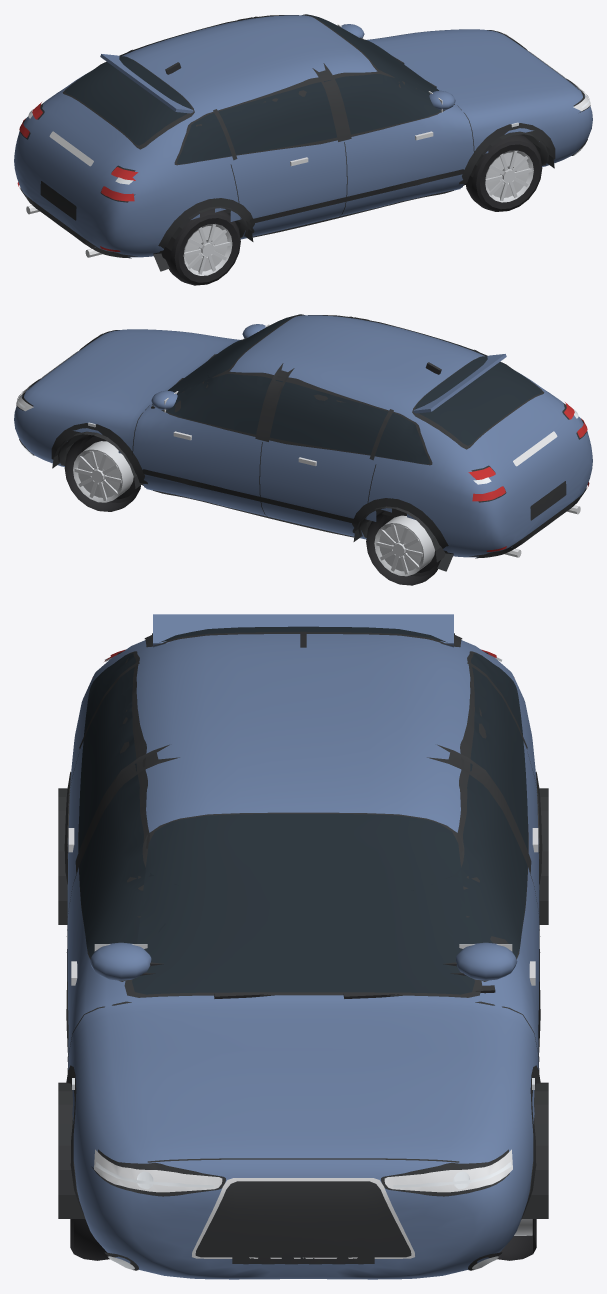
The model's file is aurore.glb.
3 renders of one model, top to bottom at view 1: azimuth 30°, elevation 25°; view 2: azimuth 150°, elevation 25°; view 3: azimuth 270°, elevation 25°, orthographic. The views are drawn at different scales.
Visible parts, largest first — view 1: Body, Glass-1, RearGlass, WheelFR, WheelRR, Windshield, WinFrame-1, ArchTrim-1.001, ArchTrim-1, Rub-1, Bpillar-1, Spoiler (+9 smaller); view 2: Body, Glass1, RearGlass, WheelFL, WheelRL, Windshield, WinFrame1, ArchTrim1.001, ArchTrim1, Rub1, Bpillar1, Spoiler (+9 smaller); view 3: Body, Windshield, Glass-1, Glass1, Grille, Spoiler, HeadReflector, ArchLiner, ArchLiner.001, HeadBezel, WsFrame, Mirror-1 (+14 smaller).
Part boxes in pixels (bbox=[...]): Body: bbox=[14, 15, 592, 257]; Glass-1: bbox=[177, 74, 440, 164]; RearGlass: bbox=[65, 56, 191, 145]; WheelFR: bbox=[466, 134, 542, 211]; WheelRR: bbox=[166, 208, 240, 285]; Windshield: bbox=[305, 14, 438, 94]; WinFrame-1: bbox=[174, 71, 445, 165]; ArchTrim-1.001: bbox=[153, 198, 254, 271]; ArchTrim-1: bbox=[459, 123, 555, 185]; Rub-1: bbox=[249, 169, 464, 223]; Bpillar-1: bbox=[312, 63, 351, 141]; Spoiler: bbox=[100, 54, 193, 113]; Body: bbox=[14, 315, 592, 557]; Glass1: bbox=[166, 372, 429, 464]; RearGlass: bbox=[415, 356, 541, 445]; WheelFL: bbox=[64, 434, 140, 511]; WheelRL: bbox=[366, 510, 440, 585]; Windshield: bbox=[168, 314, 301, 394]; WinFrame1: bbox=[161, 371, 432, 465]; ArchTrim1.001: bbox=[352, 498, 453, 571]; ArchTrim1: bbox=[51, 423, 147, 485]; Rub1: bbox=[142, 469, 357, 523]; Bpillar1: bbox=[255, 363, 294, 441]; Spoiler: bbox=[413, 354, 506, 413]; Body: bbox=[67, 634, 539, 1279]; Windshield: bbox=[132, 814, 474, 994]; Glass-1: bbox=[79, 653, 178, 957]; Glass1: bbox=[413, 653, 527, 957]; Grille: bbox=[195, 1181, 411, 1257]; Spoiler: bbox=[153, 614, 453, 647]; HeadReflector: bbox=[94, 1149, 512, 1192]; ArchLiner: bbox=[522, 1082, 548, 1218]; ArchLiner.001: bbox=[58, 1082, 84, 1218]; HeadBezel: bbox=[91, 1149, 509, 1196]; WsFrame: bbox=[124, 812, 482, 997]; Mirror-1: bbox=[89, 942, 151, 980].
Bounding box in the file's own units: 4.32 × 1.47 × 1.86.
